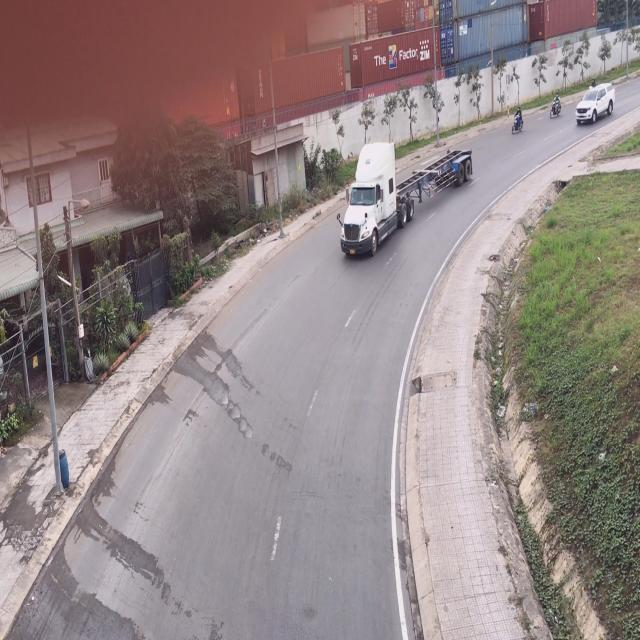car: (576, 82, 614, 128)
motorbike: (513, 103, 526, 135), (551, 89, 563, 121)
truck: (340, 144, 477, 258)
